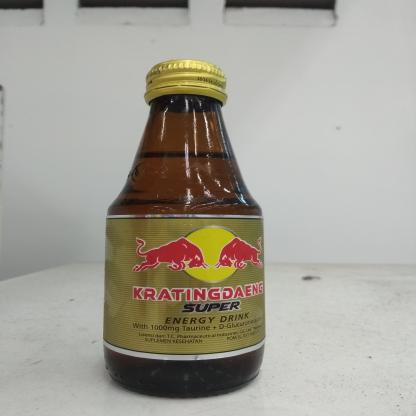bottle: (96, 55, 269, 402)
